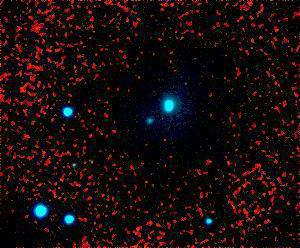star: (75, 148, 105, 178)
